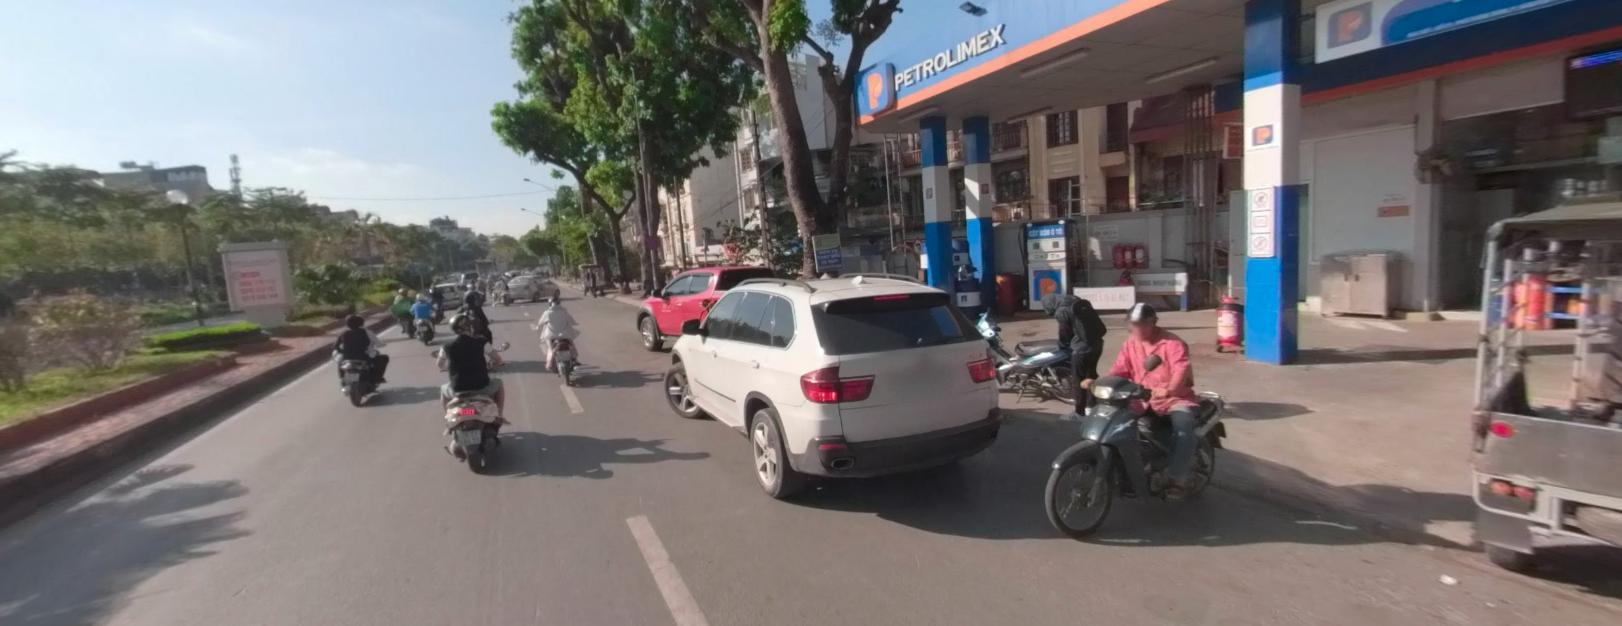Cam dung va do: (644, 233, 658, 248)
